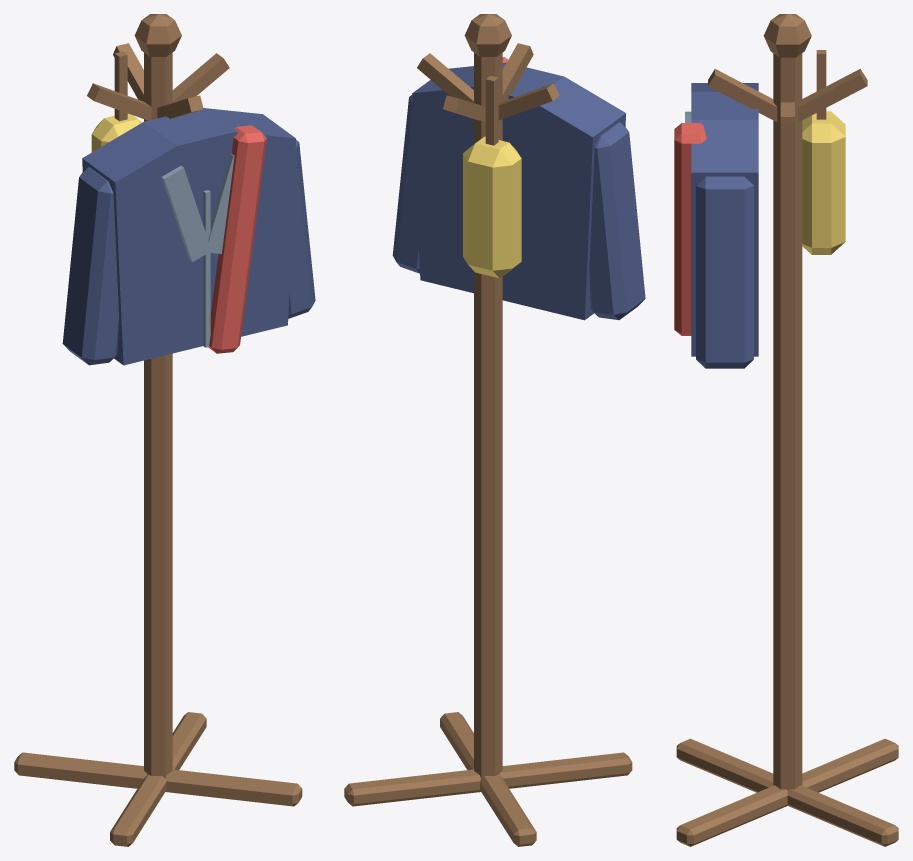
The model's file is prop_coat_rack_01.glb.
3 views of the same model, side by side, from view 1: azimuth 30°, elevation 25°; view 2: azimuth 150°, elevation 25°; view 3: azimuth 270°, elevation 25° (orthographic).
Visible parts, largest first — view 1: prop_coat_rack_01_body; view 2: prop_coat_rack_01_body; view 3: prop_coat_rack_01_body.
Boxes of the visible parts, box(x1,y1,x2,y2) form: prop_coat_rack_01_body: box(14, 14, 315, 846); prop_coat_rack_01_body: box(344, 14, 645, 846); prop_coat_rack_01_body: box(674, 14, 898, 846).
Bounding box in the file's own units: 0.5692 × 1.8 × 0.4648.
